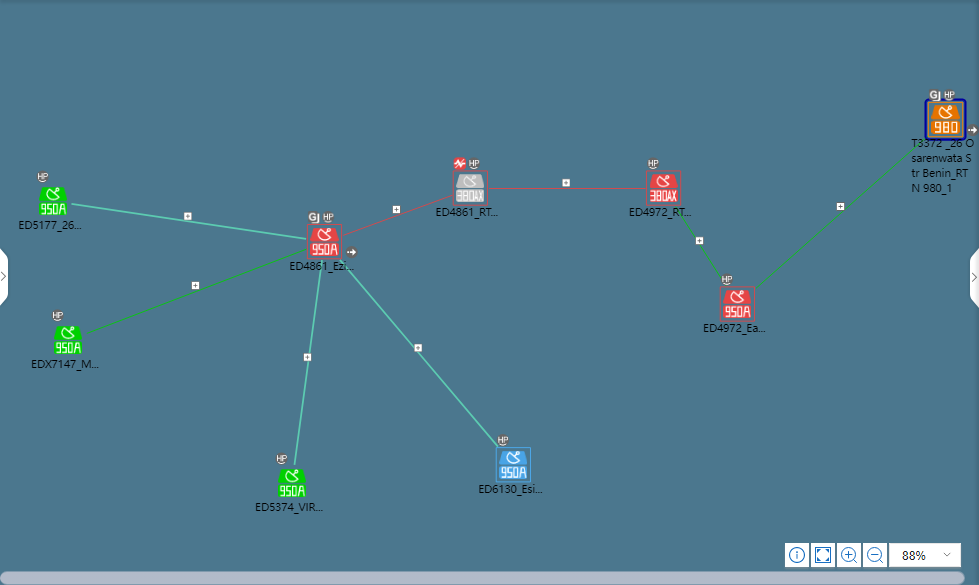Link_Blue: (340, 259, 503, 453), (90, 204, 307, 245), (291, 259, 326, 464)
Link_Green: (756, 136, 924, 286), (83, 247, 307, 335), (676, 210, 722, 280)
Link_Red: (346, 192, 454, 239), (493, 185, 642, 196)
RTN_Gray: (499, 449, 534, 484), (456, 173, 485, 208)
RTN_Green: (40, 185, 69, 221), (278, 467, 307, 502), (52, 326, 87, 354)
RTN_Orange: (927, 106, 962, 133)
RTN_Red: (646, 173, 681, 208), (719, 289, 754, 319), (309, 228, 344, 256)
